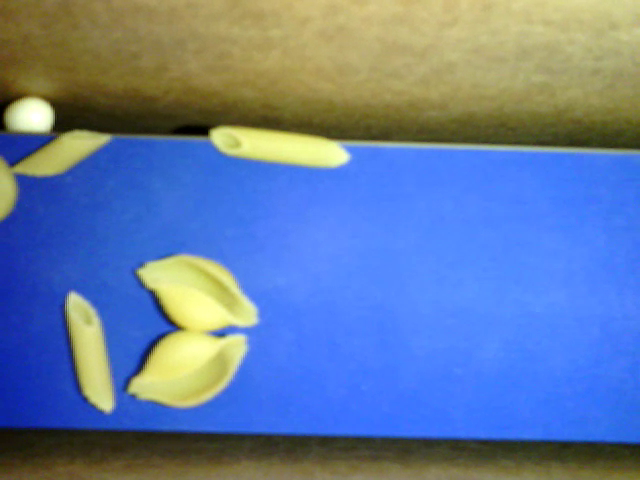penne: (209, 124, 351, 169), (64, 290, 115, 414), (9, 129, 113, 178)
shell: (136, 253, 258, 331), (125, 330, 249, 406)
